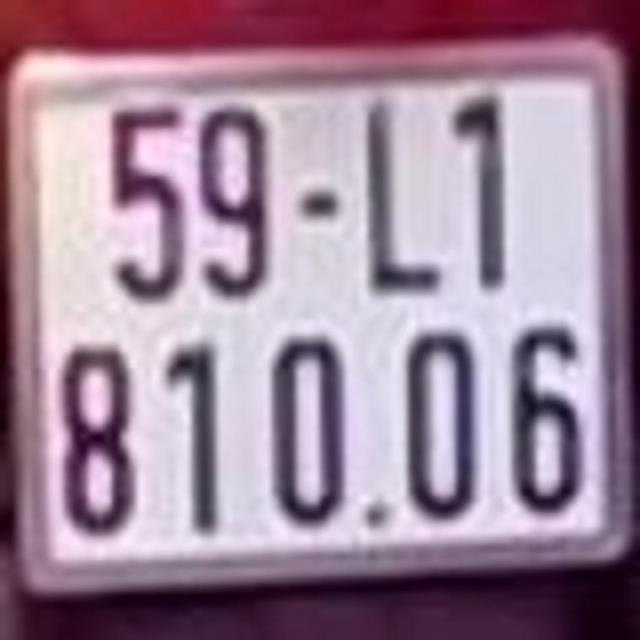0: (390, 310, 493, 516), (264, 318, 354, 532)
1: (152, 326, 245, 532), (450, 82, 532, 293)
5: (96, 87, 194, 302)
6: (505, 306, 595, 513)
8: (50, 327, 144, 540)
9: (196, 90, 278, 303)
L: (352, 89, 452, 296)
